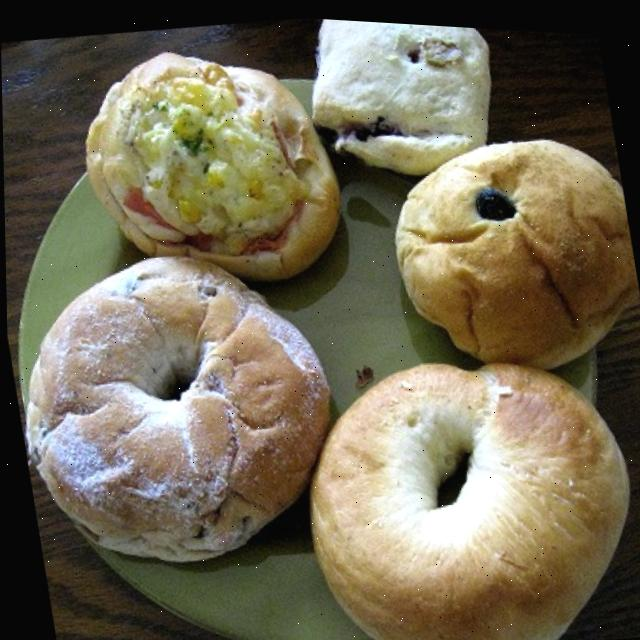三明治: (48, 9, 376, 311)
